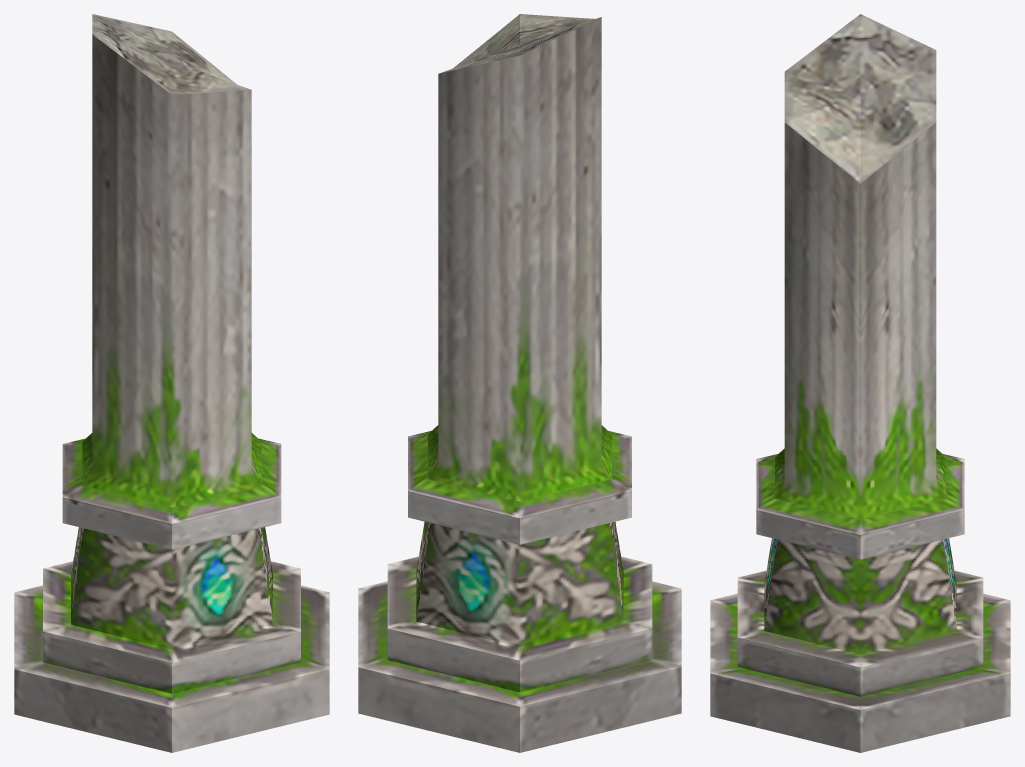
The model's file is F01_pillar01_b.FBX.
3 views of the same model, side by side, from view 1: azimuth 30°, elevation 25°; view 2: azimuth 150°, elevation 25°; view 3: azimuth 270°, elevation 25° (orthographic). The views are drawn at different scales.
Parts seen in each view (by area): view 1: F01_pillar01_b; view 2: F01_pillar01_b; view 3: F01_pillar01_b.
Boxes of the visible parts, bbox=[...] form: F01_pillar01_b: bbox=[14, 14, 329, 752]; F01_pillar01_b: bbox=[358, 14, 681, 752]; F01_pillar01_b: bbox=[710, 14, 1010, 752].
Bounding box in the file's own units: 173 × 346 × 150.
